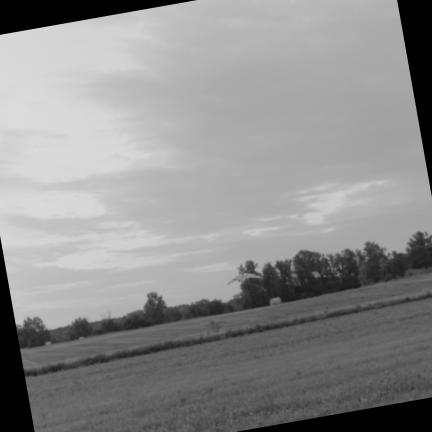Shahed: (229, 272, 261, 284)
